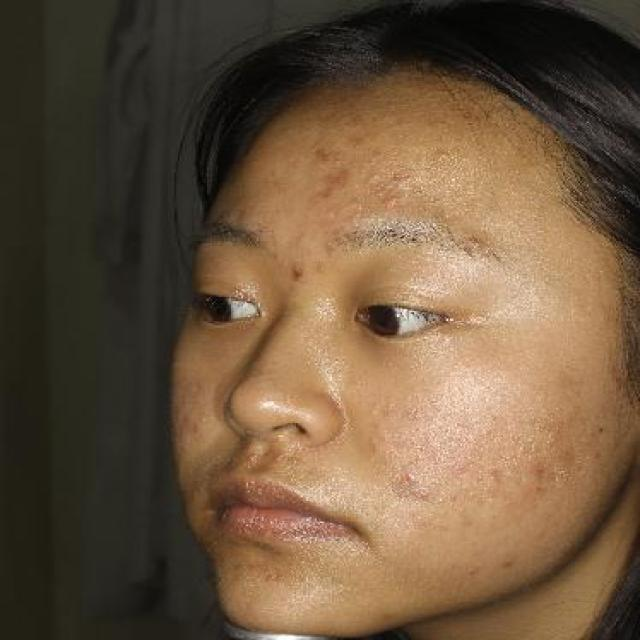Acne: (284, 260, 315, 289), (238, 446, 270, 468), (397, 466, 426, 489)
Whiteheads: (428, 144, 462, 168), (380, 191, 407, 209)
